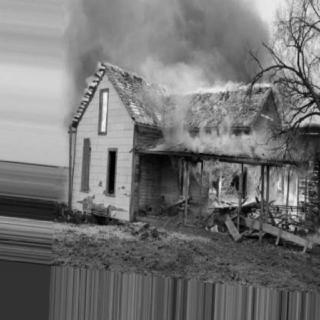Fire: (73, 72, 319, 136), (170, 142, 318, 225), (93, 56, 117, 76)
